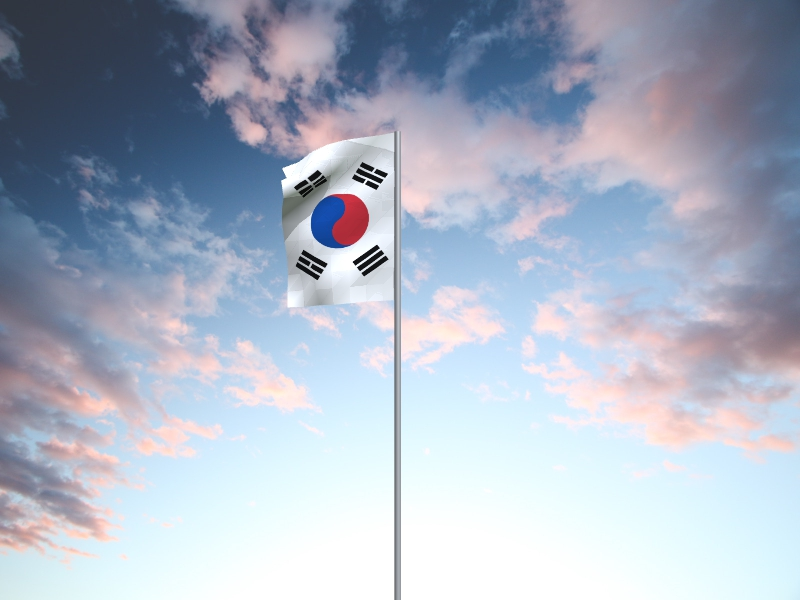kr: (281, 133, 394, 309)
